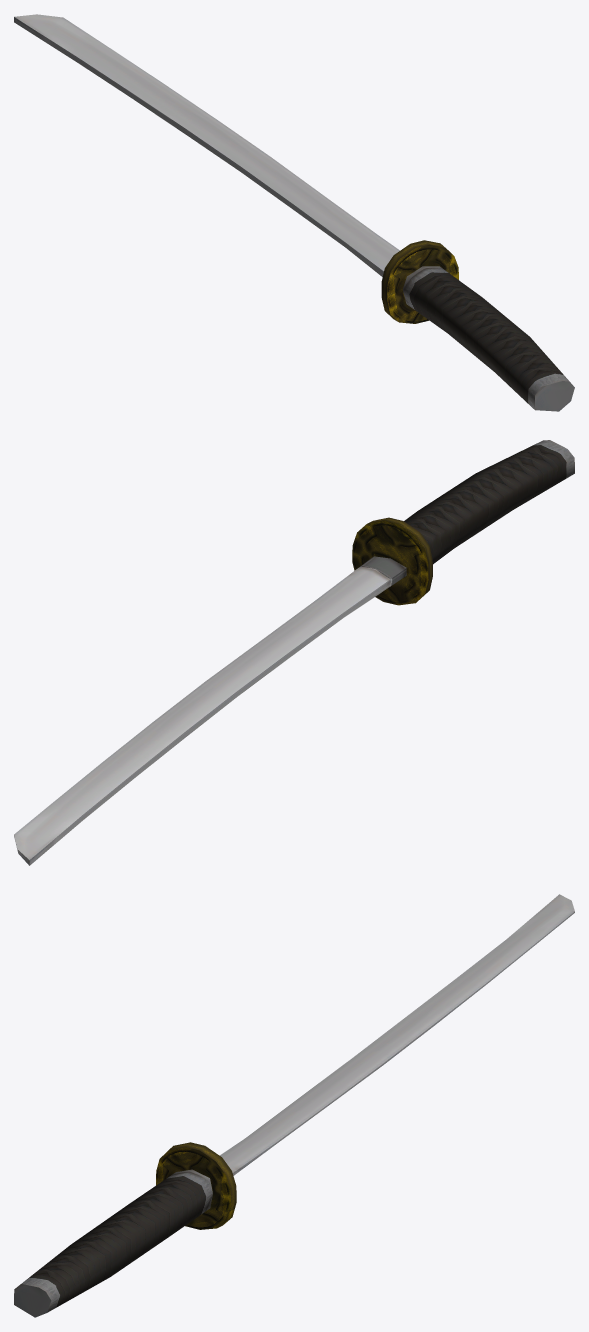
Rendered from katana.dae.
The picture shows the model from 3 angles, top to bottom: view 1: azimuth 30°, elevation 25°; view 2: azimuth 150°, elevation 25°; view 3: azimuth 330°, elevation 25°; orthographic projection. The views are drawn at different scales.
Parts seen in each view (by area): view 1: katana; view 2: katana; view 3: katana.
Part boxes in pixels (<box>): katana: <box>14,14,574,411</box>; katana: <box>14,440,574,865</box>; katana: <box>14,894,574,1317</box>.
Bounding box in the file's own units: 5.16 × 64.09 × 5.27.
